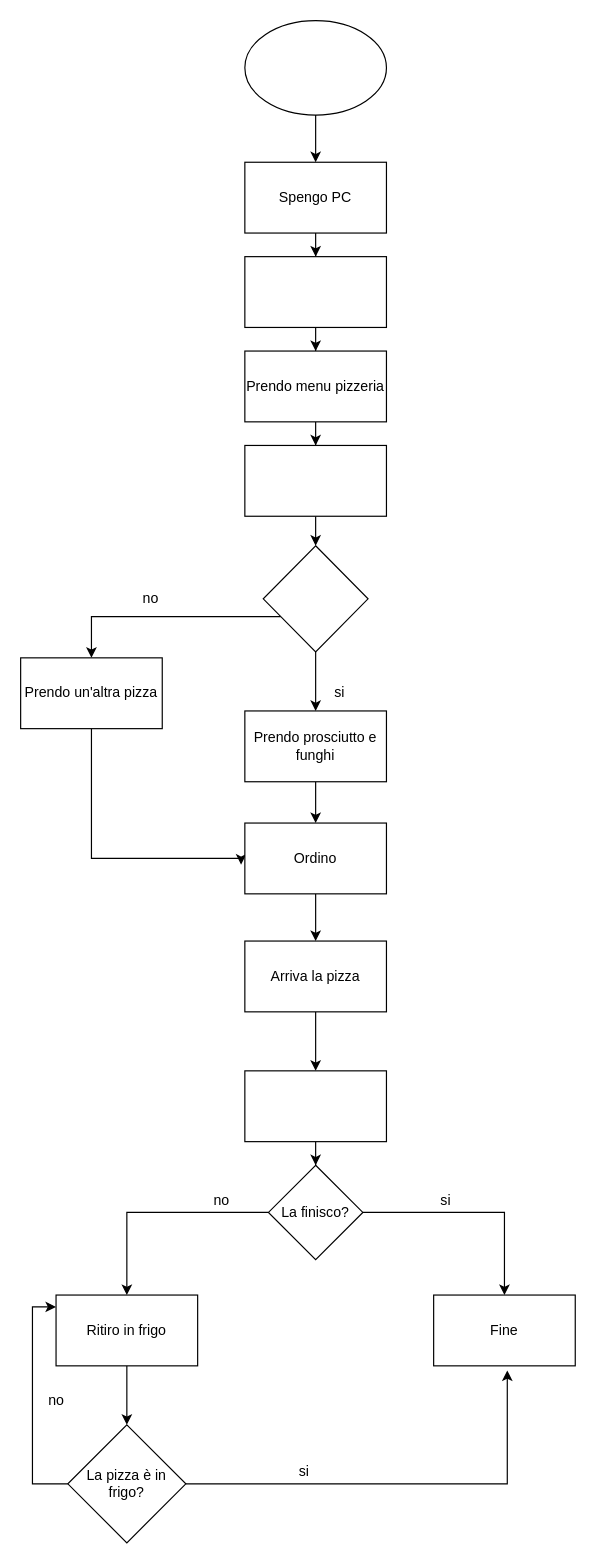
Image size: 596x1563. Some labels were removed from this diagram. Each missing label, with the centre of its shape:
Chiedo se c'è prosciutto e funghi?: point (315, 598)
Leggo tutte le pizze: point (315, 480)
Mangio la pizza: point (315, 1106)
Scelgo la pizzeria Leggo menu Dati: point (315, 67)
Scelgo pizzeria: point (315, 291)
